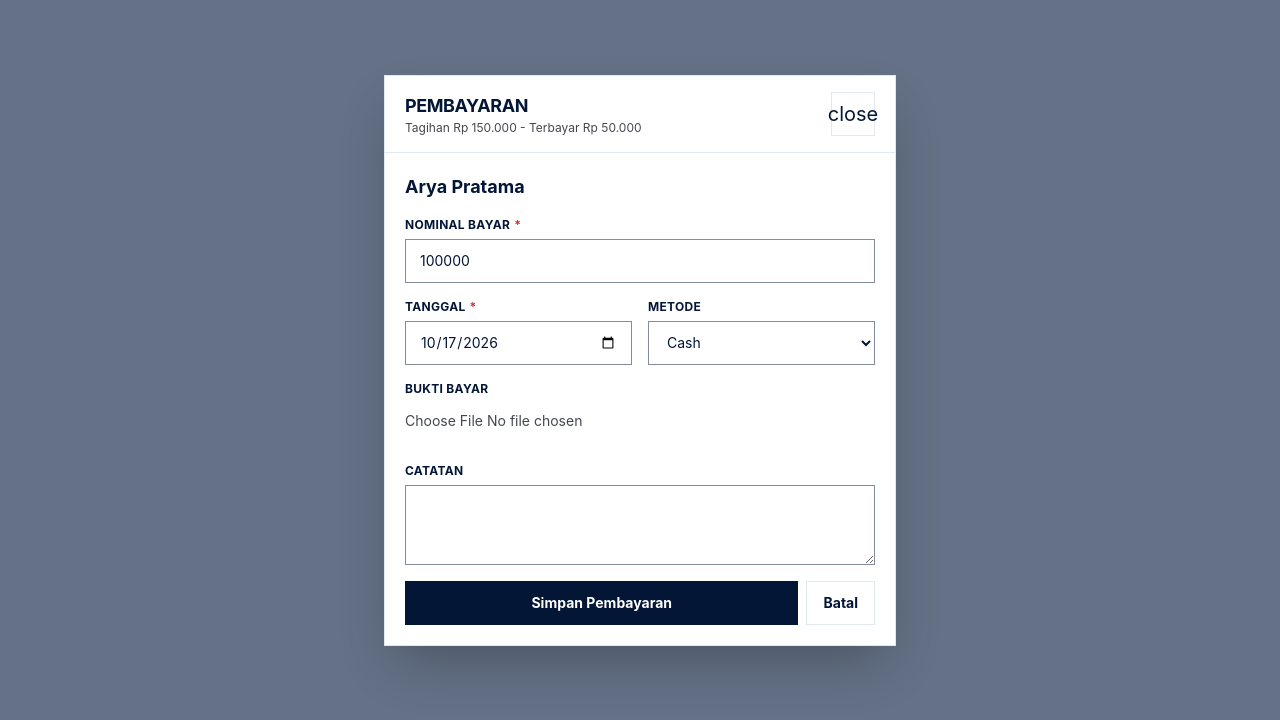
Test: SppPaymentModal › menampilkan error di dalam modal bila gagal
Click the button "Simpan Pembayaran".
click(602, 602)  # box x1=405 y1=580 x2=798 y2=624
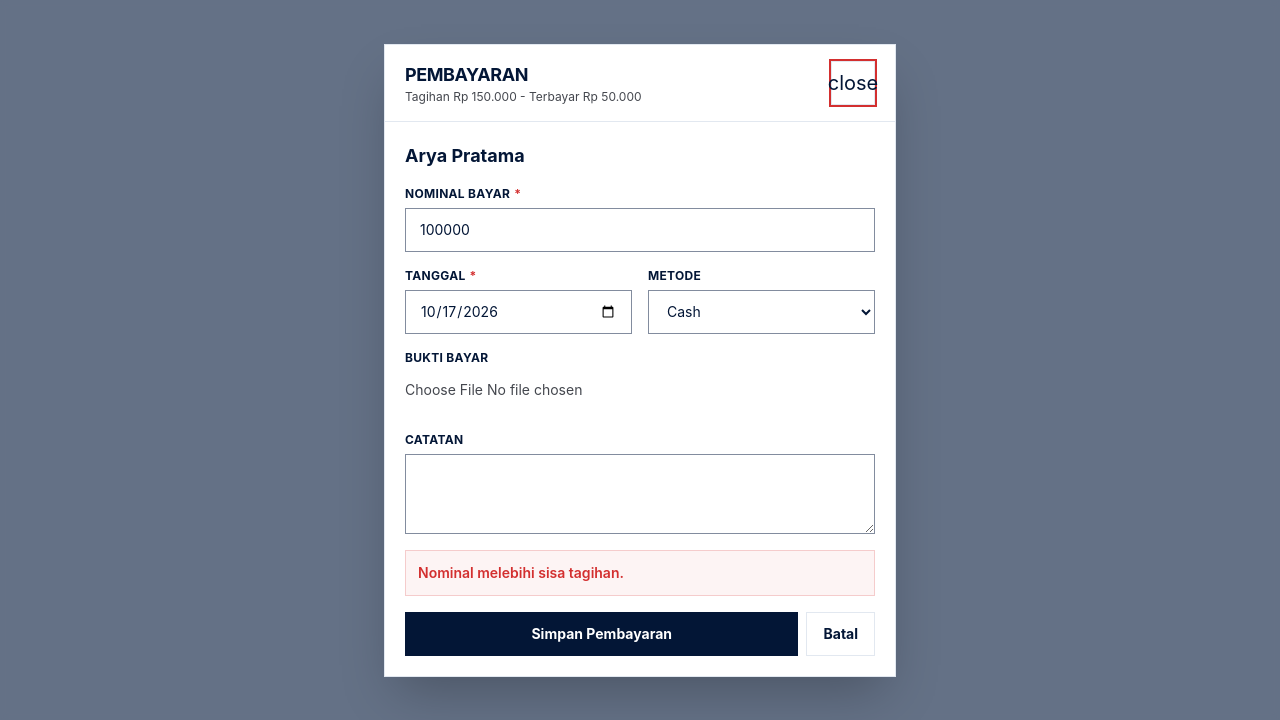
Expected: the text "Nominal melebihi sisa tagihan." is shown, x1=405 y1=550 x2=875 y2=596
